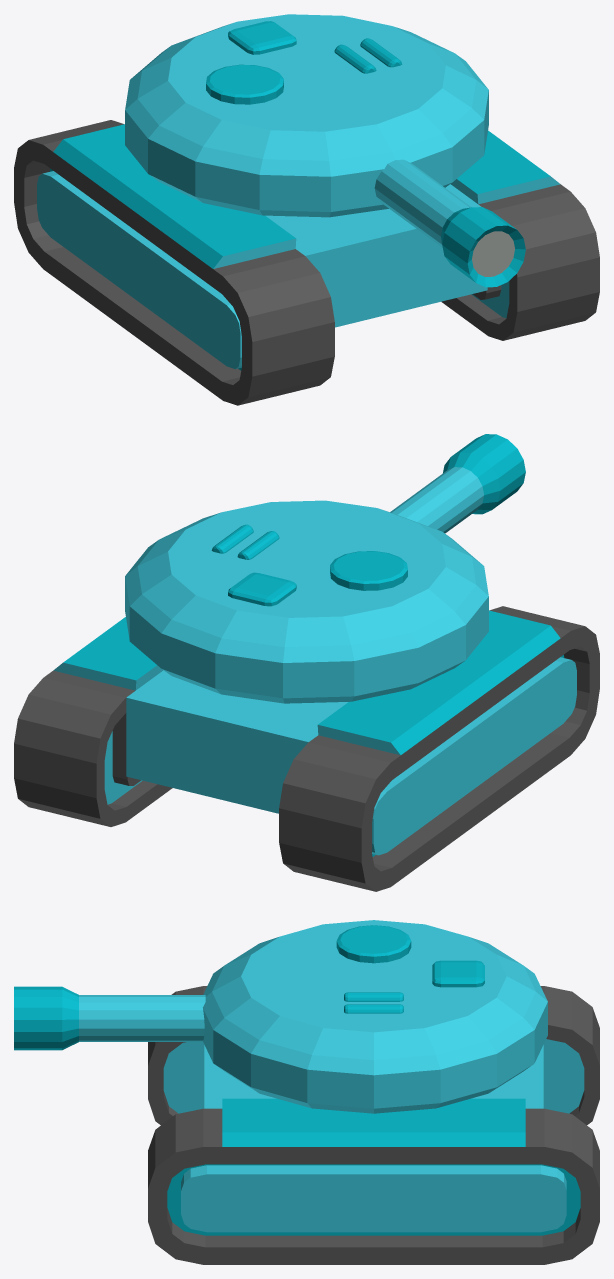
The model's file is Tank1.fbx.
3 views of the same model, one above another, from view 1: azimuth 30°, elevation 25°; view 2: azimuth 150°, elevation 25°; view 3: azimuth 270°, elevation 25° (orthographic). The views are drawn at different scales.
Visible parts, largest first — view 1: Tank1.001, Tank1_Turret.001; view 2: Tank1.001, Tank1_Turret.001; view 3: Tank1.001, Tank1_Turret.001.
Part boxes in pixels (x1,y1,x2,y2): Tank1.001: (14, 120, 599, 405); Tank1_Turret.001: (125, 14, 525, 287); Tank1.001: (14, 606, 599, 891); Tank1_Turret.001: (125, 434, 525, 703); Tank1.001: (148, 986, 599, 1264); Tank1_Turret.001: (14, 920, 547, 1113).
Bounding box in the file's own units: 3.81 × 2.39 × 5.86.
1 material, 1 textured.
